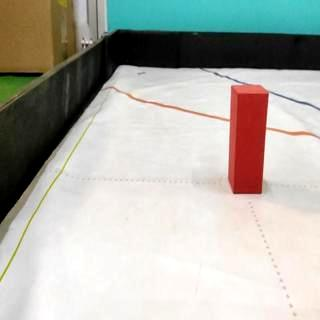redbox: (228, 82, 270, 195)
